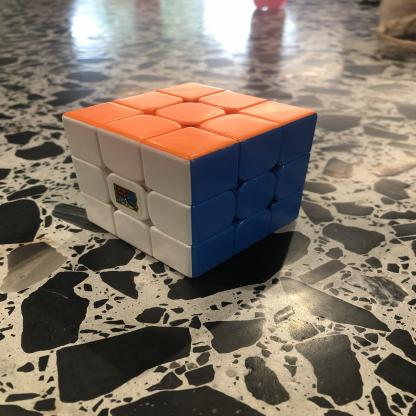SolvedCube: (56, 55, 317, 278)
